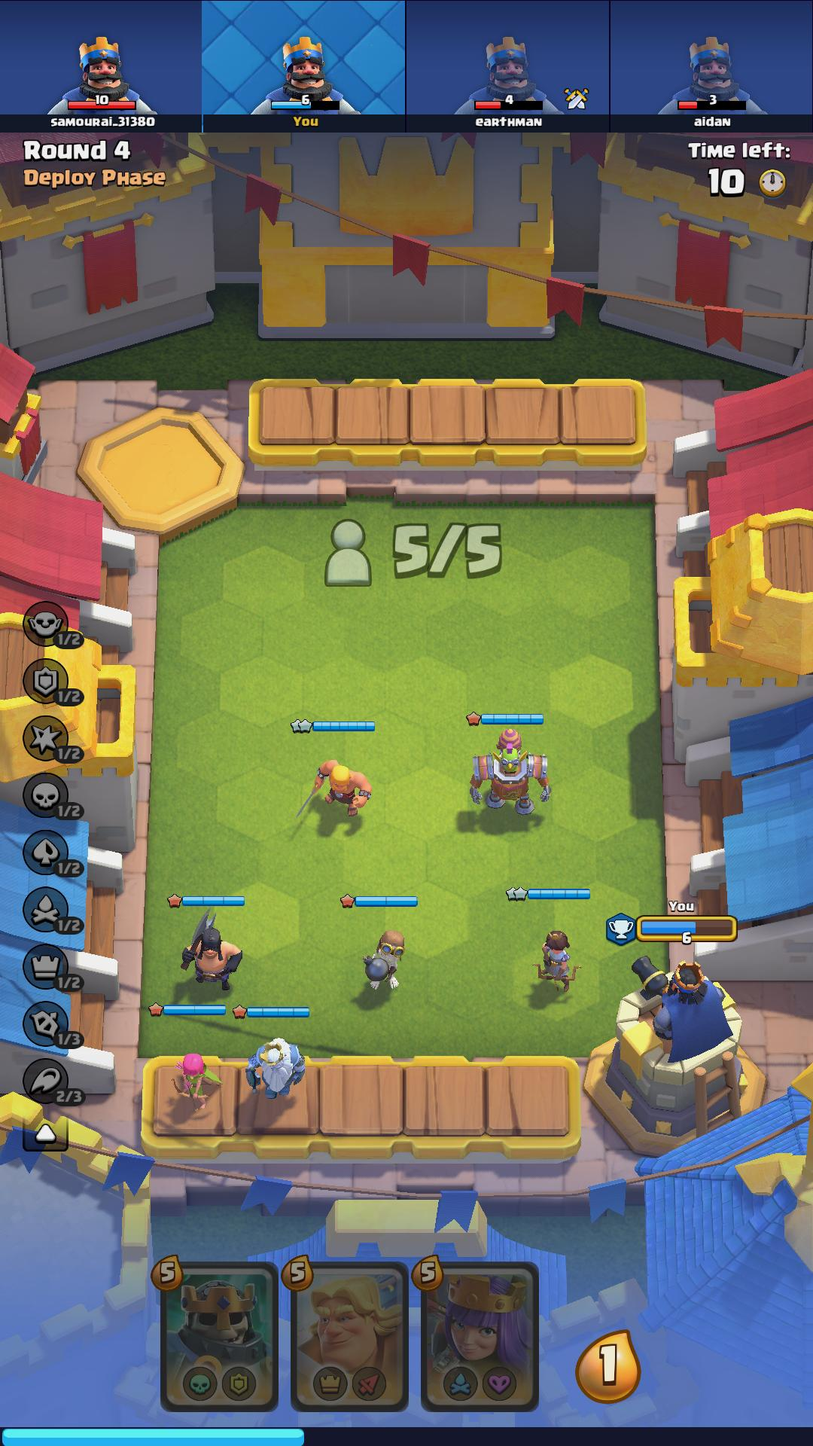archer: (167, 1041, 220, 1112)
barbarian: (295, 750, 374, 820)
bomber: (351, 922, 413, 994)
executioner: (173, 912, 250, 989)
ghost: (240, 1027, 310, 1110)
hand-golden: (296, 1258, 410, 1403)
hand-king: (162, 1262, 279, 1412)
hand-queen: (419, 1260, 540, 1408)
machine: (465, 728, 553, 818)
princess: (528, 920, 585, 996)
